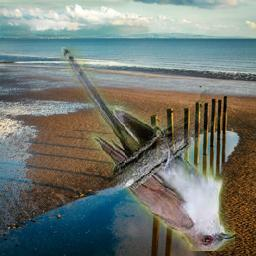Cuckoo: (61, 47, 235, 251)
